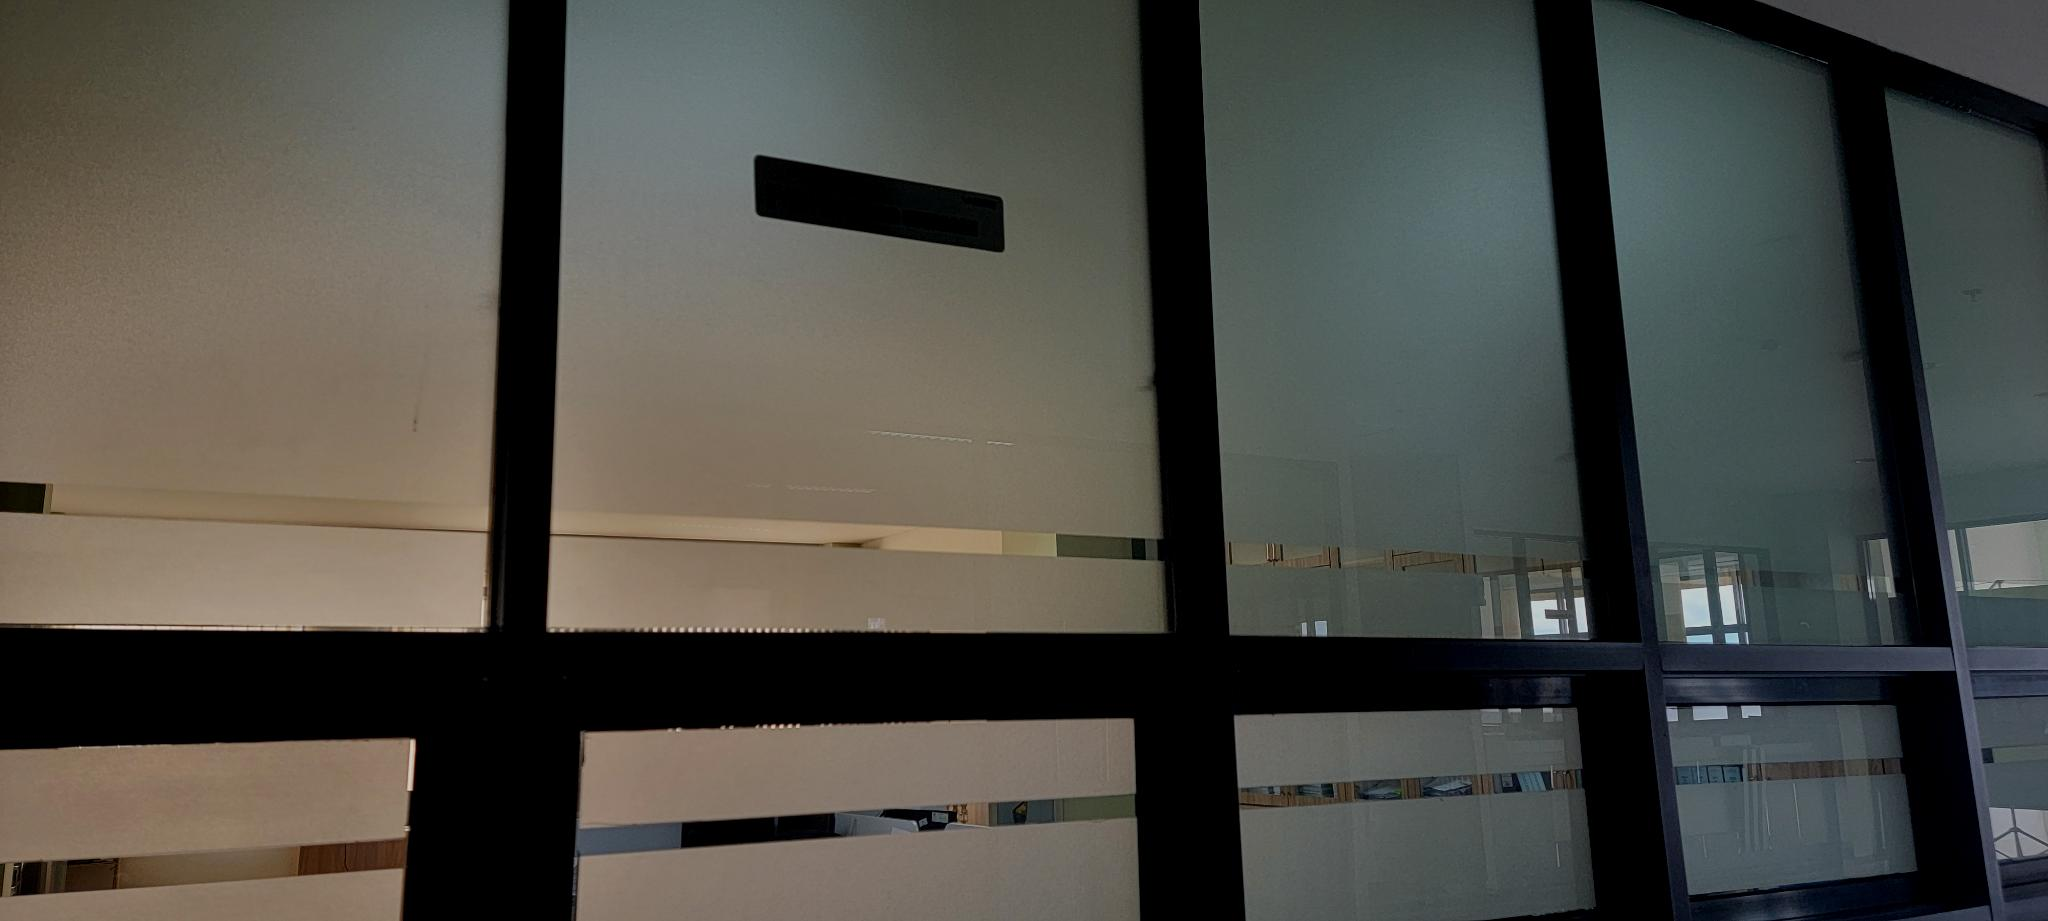plate: (754, 154, 1004, 253)
